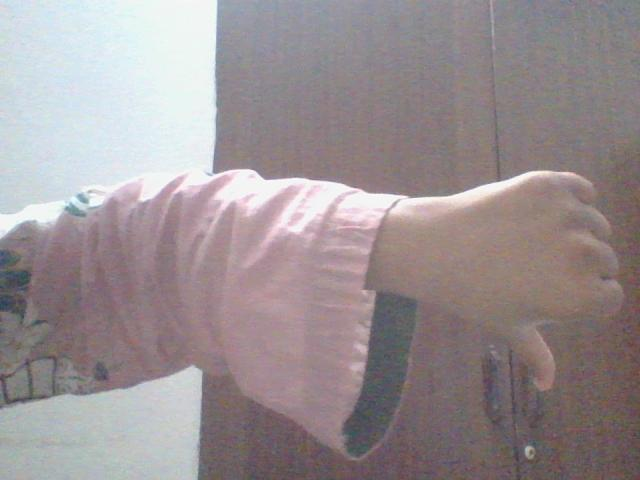thumbs-down: (478, 169, 629, 400)
